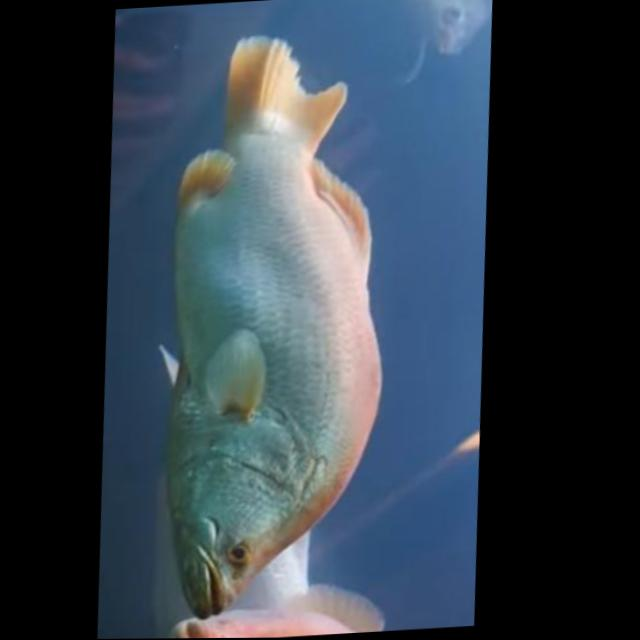Seabass: (134, 25, 424, 623)
